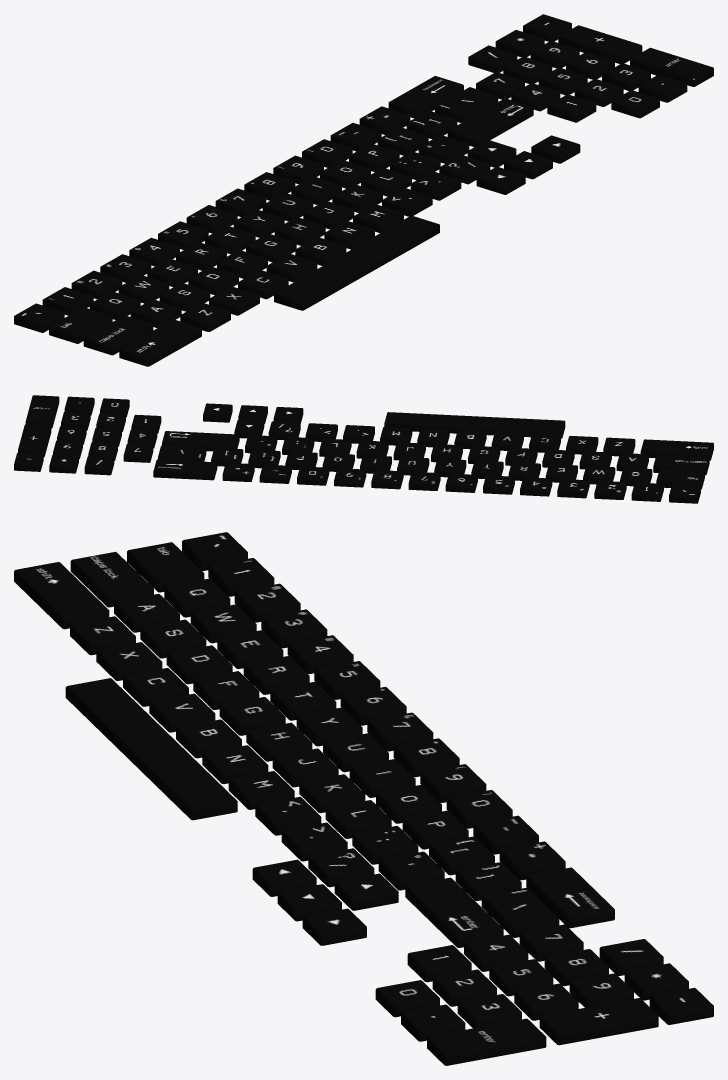
File: keyboard.glb
3 renders of one model, top to bottom at view 1: azimuth 30°, elevation 25°; view 2: azimuth 150°, elevation 25°; view 3: azimuth 270°, elevation 25°, orthographic. The views are drawn at different scales.
Parts seen in each view (by area): view 1: Key_32, Key_13, Key_16, Key_013, Key_107, Key_8, Key_20, Key_9, Key_220, Key_192, Key_190, Key_90 (+61 smaller); view 2: Key_32, Key_13, Key_8, Key_16, Key_013, Key_20, Key_107, Key_9, Key_220, Key_100, Key_105, Key_97 (+61 smaller); view 3: Key_32, Key_13, Key_16, Key_107, Key_013, Key_8, Key_20, Key_220, Key_9, Key_39, Key_38, Key_109 (+61 smaller).
Boxes of the visible parts, x1,y1,x2,y2 form: Key_32: (274, 215, 439, 310); Key_13: (447, 98, 533, 147); Key_16: (119, 319, 201, 366); Key_013: (630, 47, 713, 86); Key_107: (558, 25, 642, 63); Key_8: (388, 76, 463, 118); Key_20: (83, 315, 153, 355); Key_9: (49, 307, 112, 343); Key_220: (435, 87, 498, 122); Key_192: (14, 303, 64, 332); Key_190: (410, 171, 461, 200); Key_90: (180, 302, 230, 331); Key_32: (384, 412, 565, 438); Key_13: (162, 431, 239, 451); Key_8: (153, 459, 217, 480); Key_16: (640, 439, 713, 460); Key_013: (25, 395, 59, 428); Key_20: (653, 454, 709, 475); Key_107: (18, 424, 51, 457); Key_9: (656, 469, 704, 489); Key_220: (158, 445, 206, 461); Key_100: (520, 477, 552, 496); Key_105: (334, 468, 366, 487); Key_97: (631, 482, 663, 501); Key_32: (65, 678, 237, 820); Key_13: (405, 877, 503, 947); Key_16: (14, 562, 109, 629); Key_107: (539, 998, 658, 1045); Key_013: (427, 1018, 546, 1065); Key_8: (526, 867, 614, 928); Key_20: (70, 551, 153, 607); Key_220: (481, 887, 559, 937); Key_9: (127, 542, 204, 592); Key_39: (302, 908, 366, 945); Key_38: (334, 873, 398, 910); Key_109: (649, 987, 713, 1024).
Bounding box in the file's own units: 204 × 2.08 × 115.
Materials: 1 (1 with a texture image).
